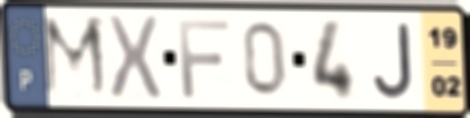0: (240, 19, 291, 101)
4: (307, 16, 361, 104)
F: (175, 17, 233, 101)
J: (370, 21, 417, 102)
M: (39, 12, 113, 102)
X: (103, 12, 165, 103)
